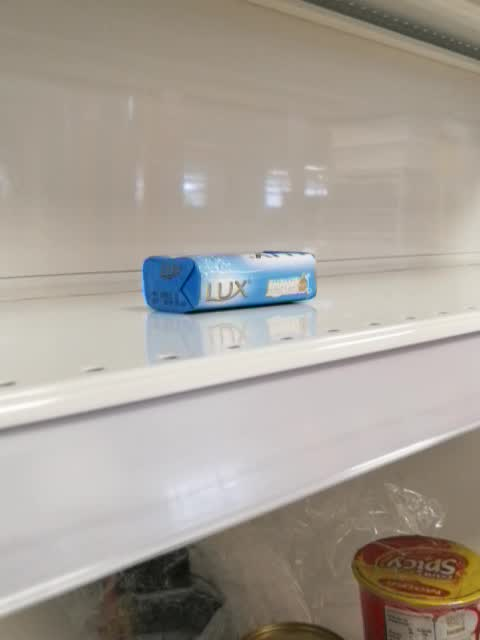soap: (138, 248, 318, 314)
